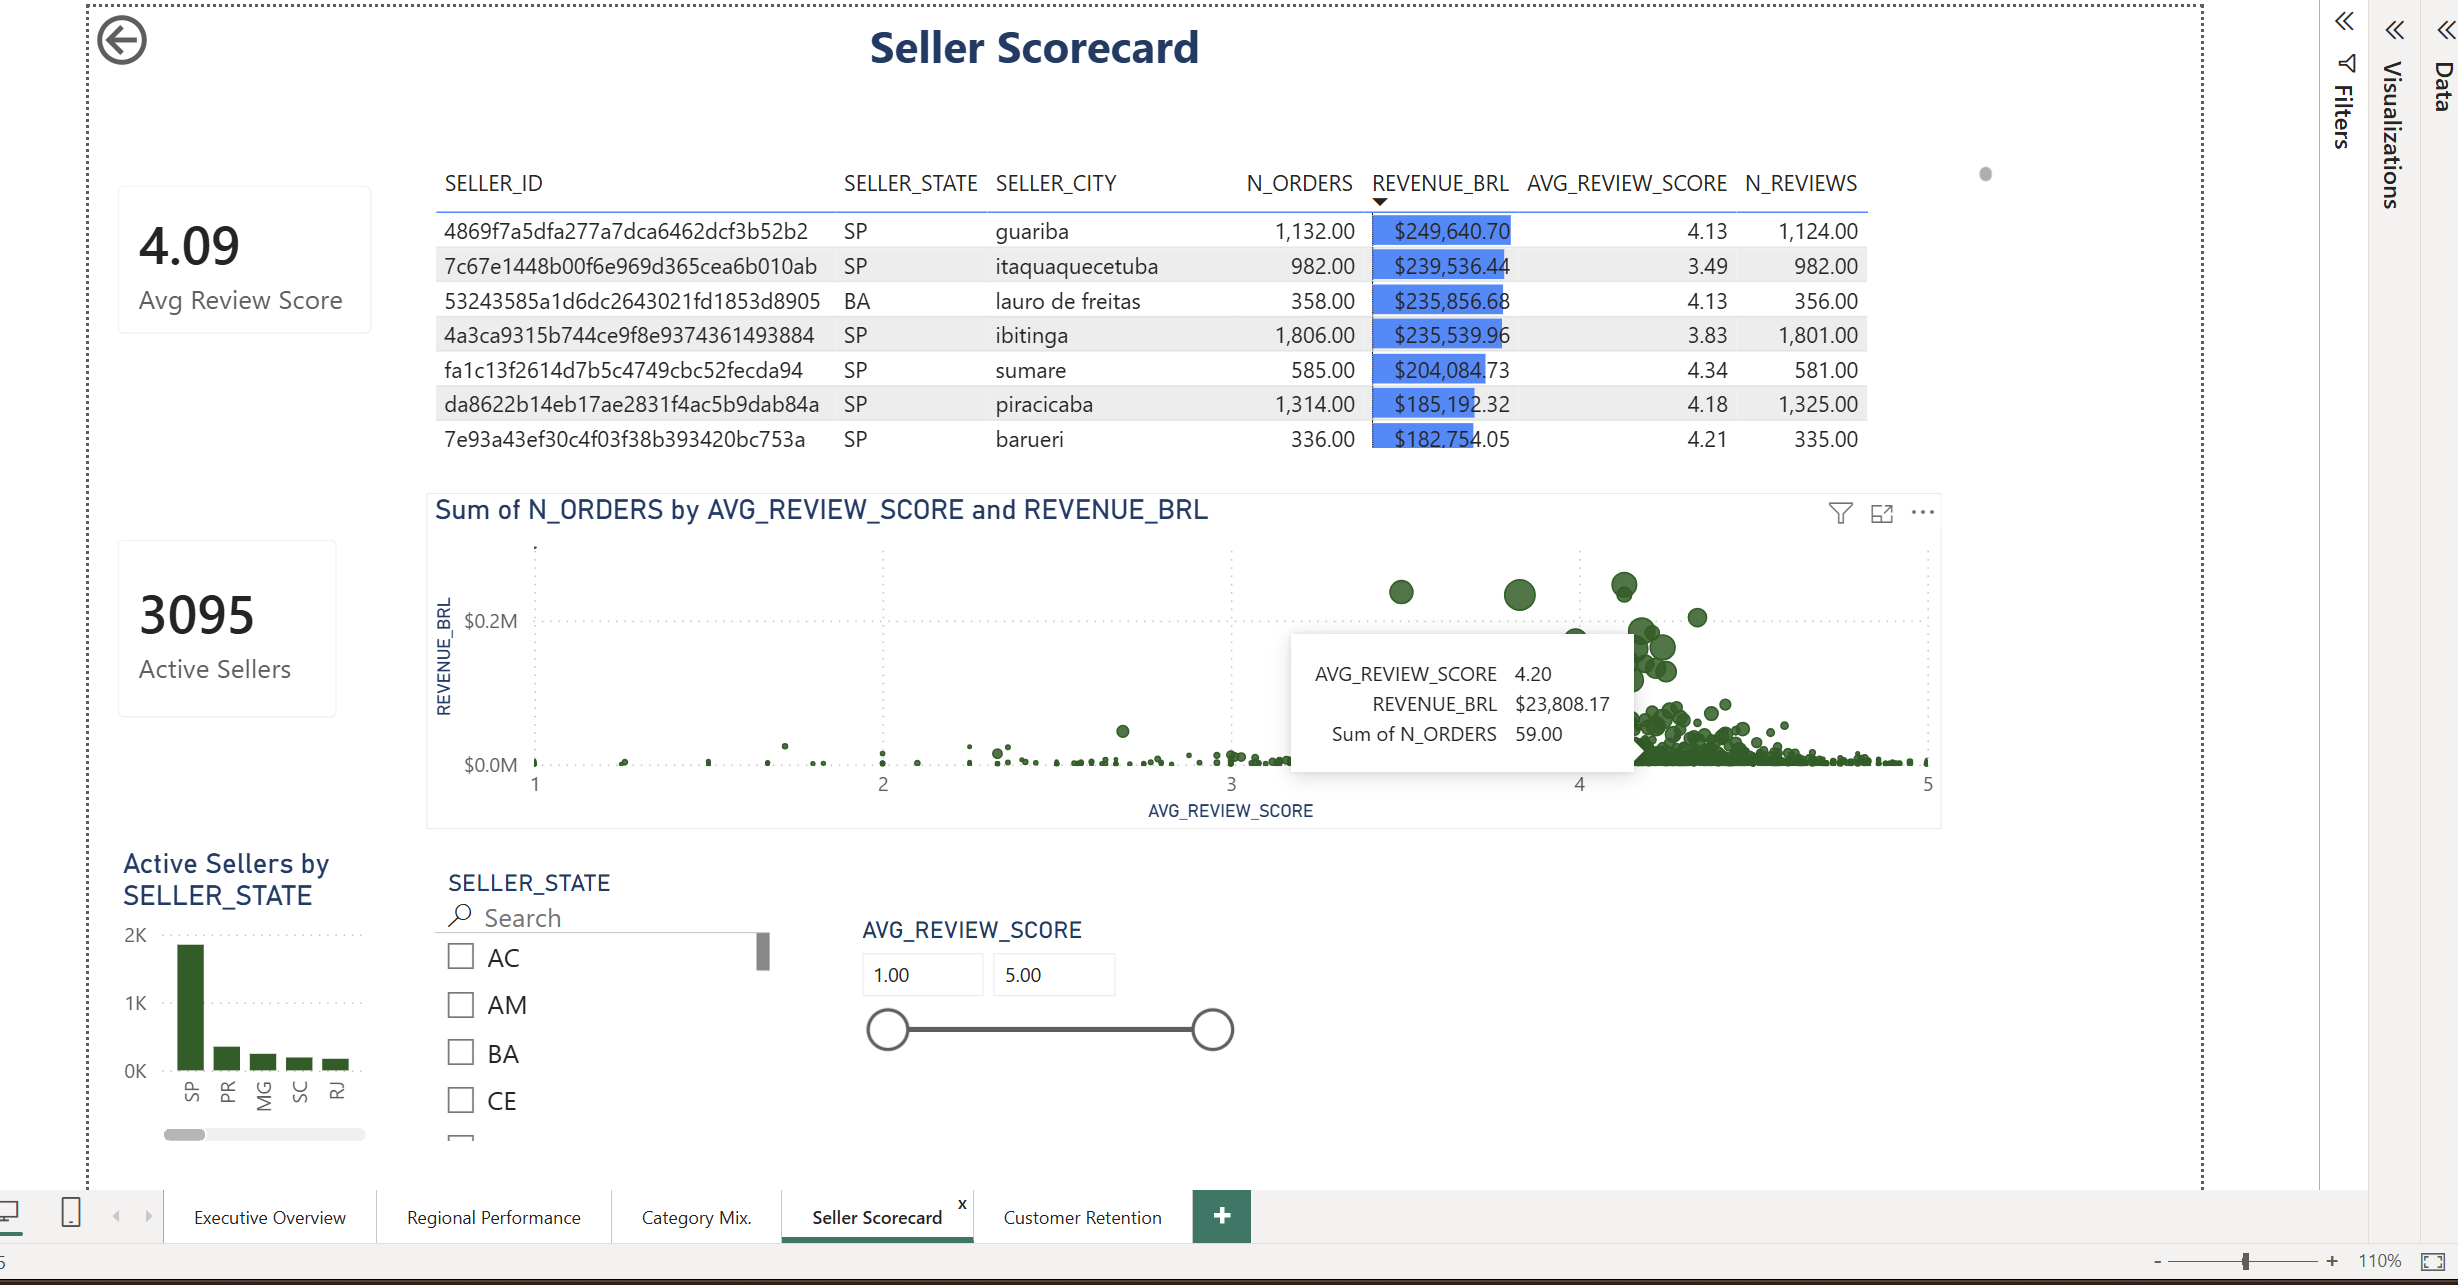

This screenshot's page, from the dashboard's own definition file:
{"tool":"powerbi","page":{"name":"Seller Scorecard","canvas":[1280,720],"ordinal":3},"visuals":[{"type":"cardVisual","fields":{"Data":["_Measures.Active Sellers"]},"box":[0,305.8,168,142.8],"z":0},{"type":"cardVisual","fields":{"Data":["_Measures.Avg Review Score"]},"box":[0,90.5,188.1,124.7],"z":1000},{"type":"actionButton","box":[0,0,100,40],"z":2000},{"type":"tableEx","fields":{"Values":["MART_SELLER_PERFORMANCE.SELLER_ID","MART_SELLER_PERFORMANCE.SELLER_STATE","MART_SELLER_PERFORMANCE.SELLER_CITY","MART_SELLER_PERFORMANCE.N_ORDERS","MART_SELLER_PERFORMANCE.REVENUE_BRL","MART_SELLER_PERFORMANCE.AVG_REVIEW_SCORE","MART_SELLER_PERFORMANCE.N_REVIEWS"]},"box":[204.2,90.5,954.5,181],"z":3000},{"type":"scatterChart","fields":{"X":["MART_SELLER_PERFORMANCE.AVG_REVIEW_SCORE"],"Y":["MART_SELLER_PERFORMANCE.REVENUE_BRL"],"Size":["Sum(MART_SELLER_PERFORMANCE.N_ORDERS)"]},"box":[204.2,294.7,918.3,203.2],"z":4000},{"type":"clusteredColumnChart","fields":{"Category":["MART_SELLER_PERFORMANCE.SELLER_STATE"],"Y":["_Measures.Active Sellers"]},"box":[15.1,508.9,156.9,183.1],"z":5000},{"type":"slicer","fields":{"Values":["MART_SELLER_PERFORMANCE.SELLER_STATE"]},"box":[204.2,517,213.2,175],"z":6000},{"type":"slicer","fields":{"Values":["MART_SELLER_PERFORMANCE.AVG_REVIEW_SCORE"]},"box":[455.6,545.1,246.4,175],"z":7000},{"type":"textbox","box":[468.2,0,324.5,49.1],"z":8000}]}

Visuals, with their boxes on the page's 1280x720 design canvas (x1, y1, x2, y2). These are canvas units, not pixel positions in the 2458x1285 screenshot, which may show the page scaled, cropped or inside an application window:
cardVisual - _Measures.Active Sellers: 0,306,168,449
cardVisual - _Measures.Avg Review Score: 0,90,188,215
actionButton: 0,0,100,40
tableEx - MART_SELLER_PERFORMANCE.SELLER_ID x MART_SELLER_PERFORMANCE.SELLER_STATE: 204,90,1159,272
scatterChart - MART_SELLER_PERFORMANCE.AVG_REVIEW_SCORE x MART_SELLER_PERFORMANCE.REVENUE_BRL: 204,295,1122,498
clusteredColumnChart - MART_SELLER_PERFORMANCE.SELLER_STATE x _Measures.Active Sellers: 15,509,172,692
slicer - MART_SELLER_PERFORMANCE.SELLER_STATE: 204,517,417,692
slicer - MART_SELLER_PERFORMANCE.AVG_REVIEW_SCORE: 456,545,702,720
textbox: 468,0,793,49
